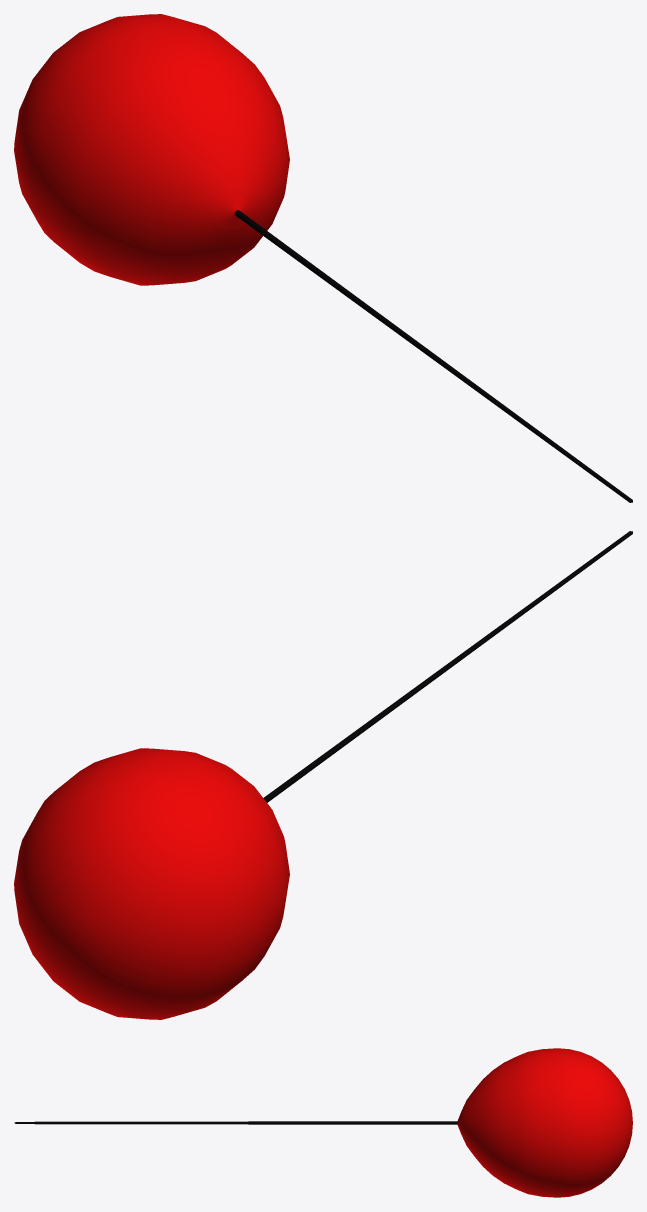
The model's file is Balloon.fbx.
3 views of the same model, one above another, from view 1: azimuth 30°, elevation 25°; view 2: azimuth 150°, elevation 25°; view 3: azimuth 270°, elevation 25° (orthographic). The views are drawn at different scales.
Visible parts, largest first — view 1: pSphere1; view 2: pSphere1; view 3: pSphere1.
Part boxes in pixels (x1=…): pSphere1: x1=14, y1=14, x2=632, y2=502; pSphere1: x1=14, y1=531, x2=632, y2=1019; pSphere1: x1=14, y1=1048, x2=632, y2=1197.
Size of the model in its own units: 119 by 119 by 490.
